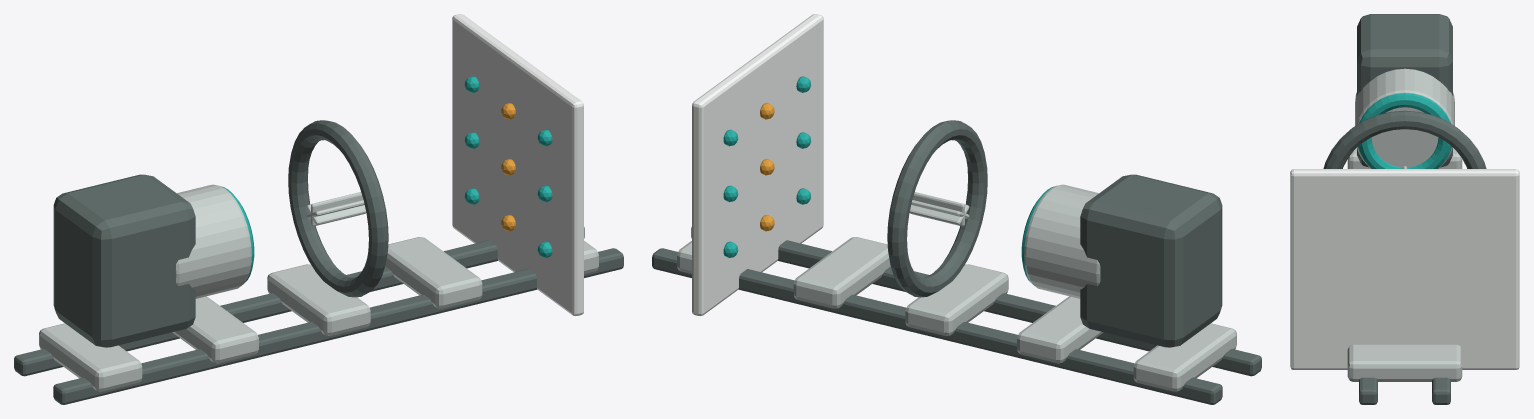
File: optical-rail.glb
The picture shows the model from 3 angles, left to right: view 1: azimuth 30°, elevation 25°; view 2: azimuth 150°, elevation 25°; view 3: azimuth 270°, elevation 25°; orthographic projection. The views are drawn at different scales.
Parts seen in each view (by area): view 1: Image plane, Camera body, Rail left, Aperture housing, Lens barrel, Station carriage.003, Station carriage.002, Rail right, Station carriage, Station carriage.001; view 2: Image plane, Camera body, Rail right, Aperture housing, Lens barrel, Station carriage.003, Station carriage.002, Rail left, Station carriage, Station carriage.001; view 3: Image plane, Camera body, Lens barrel, Station carriage.004, Aperture housing, Focus ring, Rail left, Rail right, Station carriage.
Boxes of the visible parts, x1=… form: Image plane: x1=452, y1=14, x2=583, y2=316; Camera body: x1=53, y1=174, x2=195, y2=347; Rail left: x1=53, y1=248, x2=623, y2=404; Aperture housing: x1=288, y1=120, x2=388, y2=297; Lens barrel: x1=175, y1=184, x2=251, y2=298; Station carriage.003: x1=385, y1=237, x2=482, y2=308; Station carriage.002: x1=267, y1=264, x2=370, y2=335; Rail right: x1=14, y1=227, x2=584, y2=376; Station carriage: x1=39, y1=323, x2=142, y2=391; Station carriage.001: x1=172, y1=296, x2=258, y2=363; Image plane: x1=692, y1=14, x2=823, y2=316; Camera body: x1=1080, y1=174, x2=1222, y2=347; Rail right: x1=652, y1=248, x2=1222, y2=404; Aperture housing: x1=887, y1=120, x2=987, y2=297; Lens barrel: x1=1024, y1=184, x2=1100, y2=298; Station carriage.003: x1=793, y1=237, x2=890, y2=308; Station carriage.002: x1=905, y1=264, x2=1008, y2=335; Rail left: x1=691, y1=227, x2=1261, y2=376; Station carriage: x1=1133, y1=323, x2=1236, y2=391; Station carriage.001: x1=1017, y1=296, x2=1103, y2=363; Image plane: x1=1290, y1=169, x2=1519, y2=369; Camera body: x1=1357, y1=14, x2=1452, y2=167; Lens barrel: x1=1355, y1=68, x2=1454, y2=168; Station carriage.004: x1=1347, y1=344, x2=1462, y2=381; Aperture housing: x1=1323, y1=110, x2=1486, y2=168; Focus ring: x1=1358, y1=93, x2=1451, y2=168; Rail left: x1=1359, y1=377, x2=1377, y2=404; Rail right: x1=1432, y1=377, x2=1450, y2=404; Station carriage: x1=1347, y1=148, x2=1462, y2=168.
Size of the model in its own units: 5.8 by 2.1 by 2.2.
